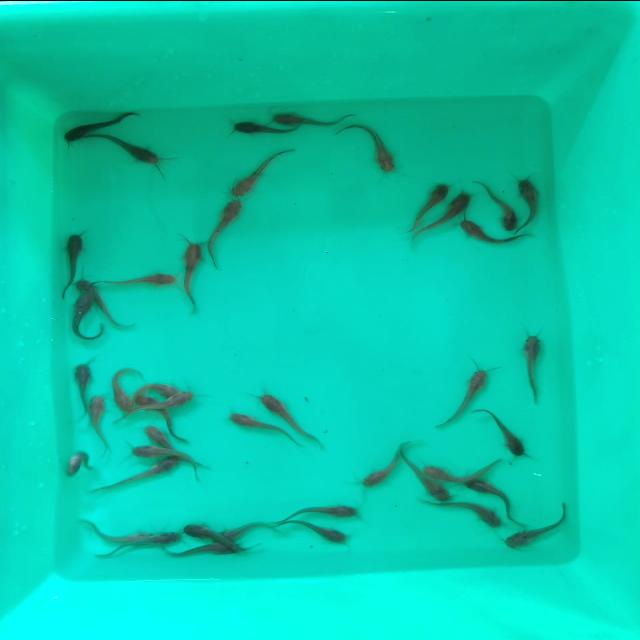lele: (347, 120, 409, 174), (437, 365, 488, 425), (205, 198, 245, 272), (228, 149, 286, 197), (88, 131, 164, 167), (82, 280, 140, 325), (105, 459, 177, 494), (480, 408, 528, 458), (362, 431, 398, 497), (56, 108, 134, 138), (177, 240, 206, 320), (104, 533, 178, 563), (481, 174, 517, 232), (423, 452, 491, 480), (394, 476, 446, 512), (272, 105, 346, 130), (500, 520, 564, 548), (105, 268, 177, 292), (516, 176, 548, 230), (65, 301, 100, 349), (222, 118, 294, 141), (290, 520, 356, 544), (402, 184, 448, 218), (257, 392, 309, 422), (520, 328, 542, 398), (282, 502, 359, 522), (427, 195, 469, 231), (451, 501, 498, 533), (223, 410, 275, 438), (56, 233, 86, 280), (466, 478, 520, 504), (448, 218, 499, 245), (215, 520, 278, 540), (174, 542, 236, 562), (88, 522, 146, 542), (110, 364, 134, 412), (88, 394, 110, 445), (132, 443, 192, 461), (72, 356, 92, 406), (136, 394, 166, 424), (67, 448, 94, 481), (132, 425, 174, 446), (165, 385, 201, 407), (132, 378, 172, 396), (179, 520, 214, 540)
